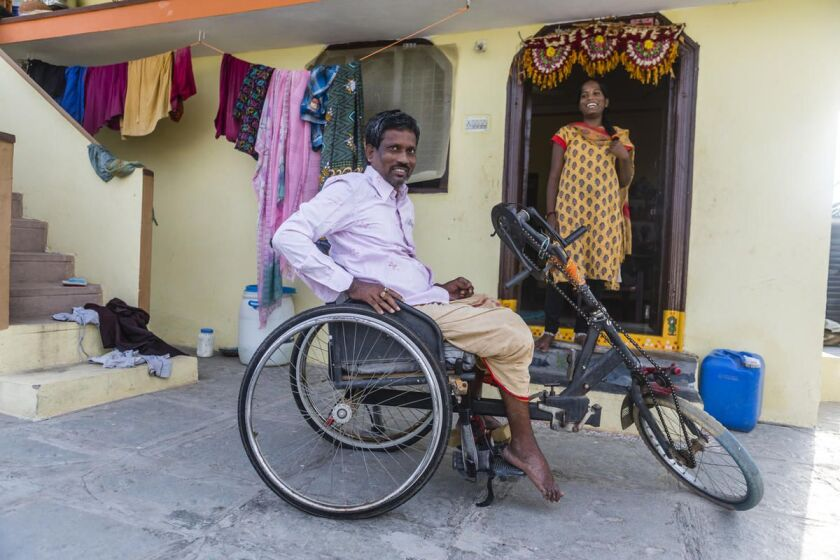wheelchair: (235, 107, 564, 520)
